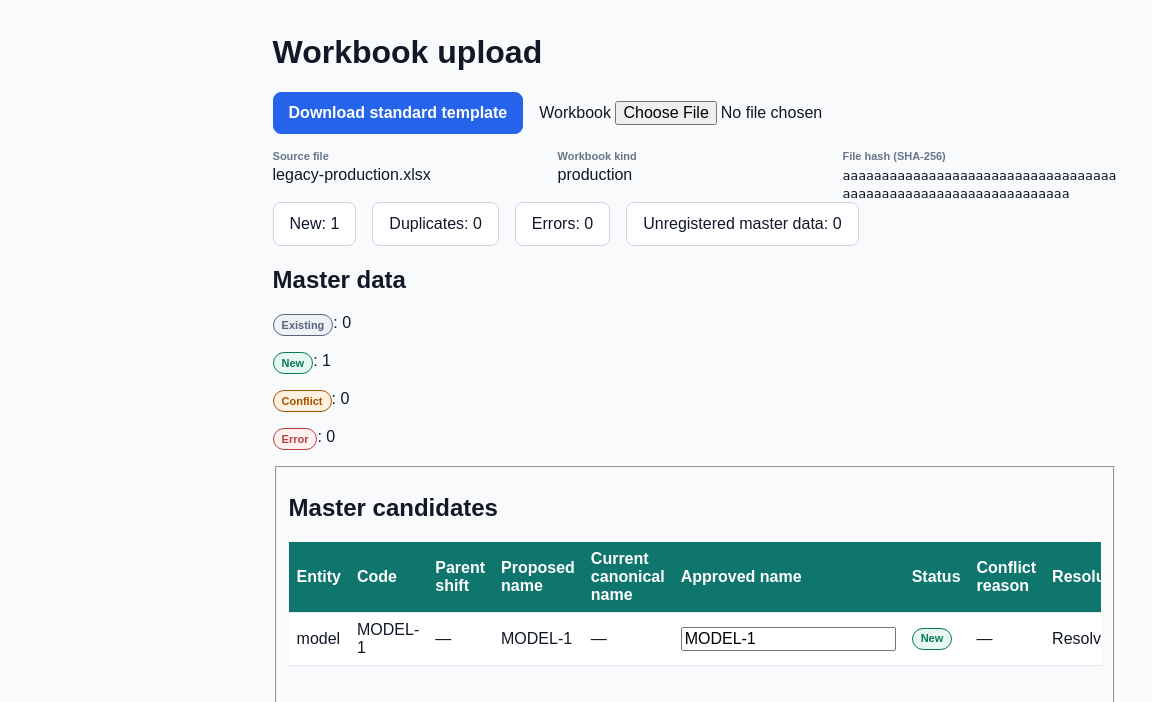
Test: UploadPage › loads server pages, resets filters to page one, and preserves candidate edits
Earlier steps of the test are not shown.
Later steps or results of the test are not shown.
Replace the text in the field named "Approved name MODEL-1" with "Camera Main". click: (788, 639)
box: [681,627,896,651]
(page scrolled)
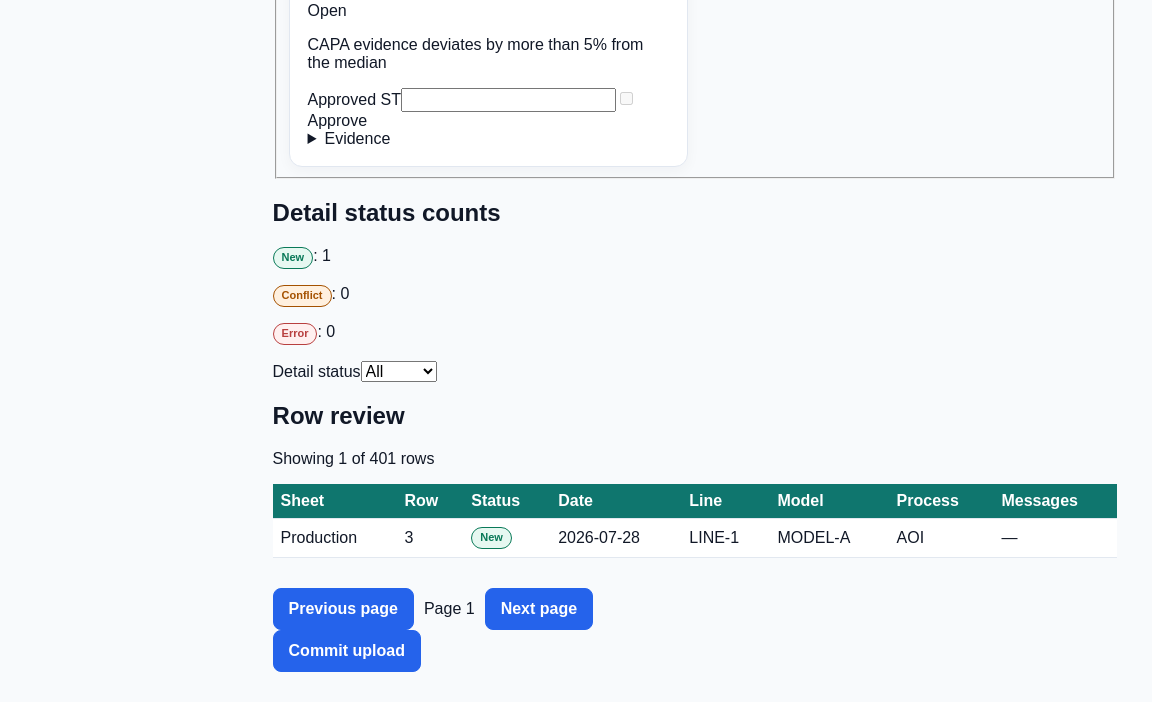
Click the button "Next page". click: (539, 608)
box: [485,588,593,630]
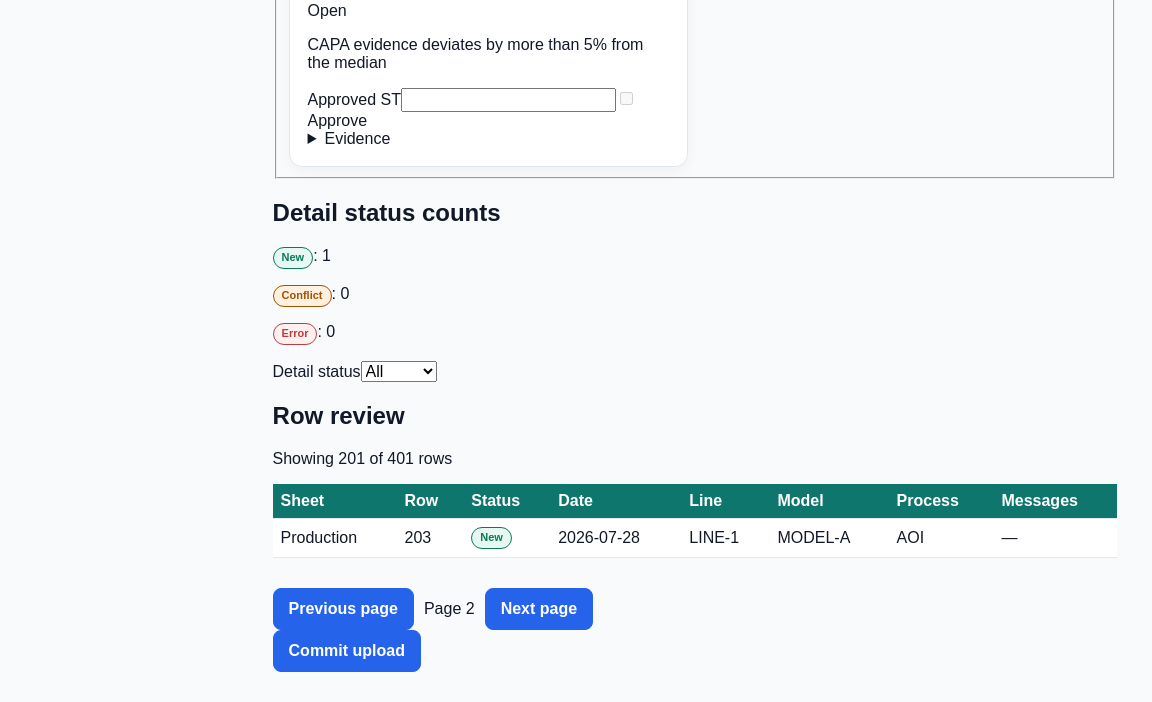
Result: the text "203" is shown at [396,518,463,557]
